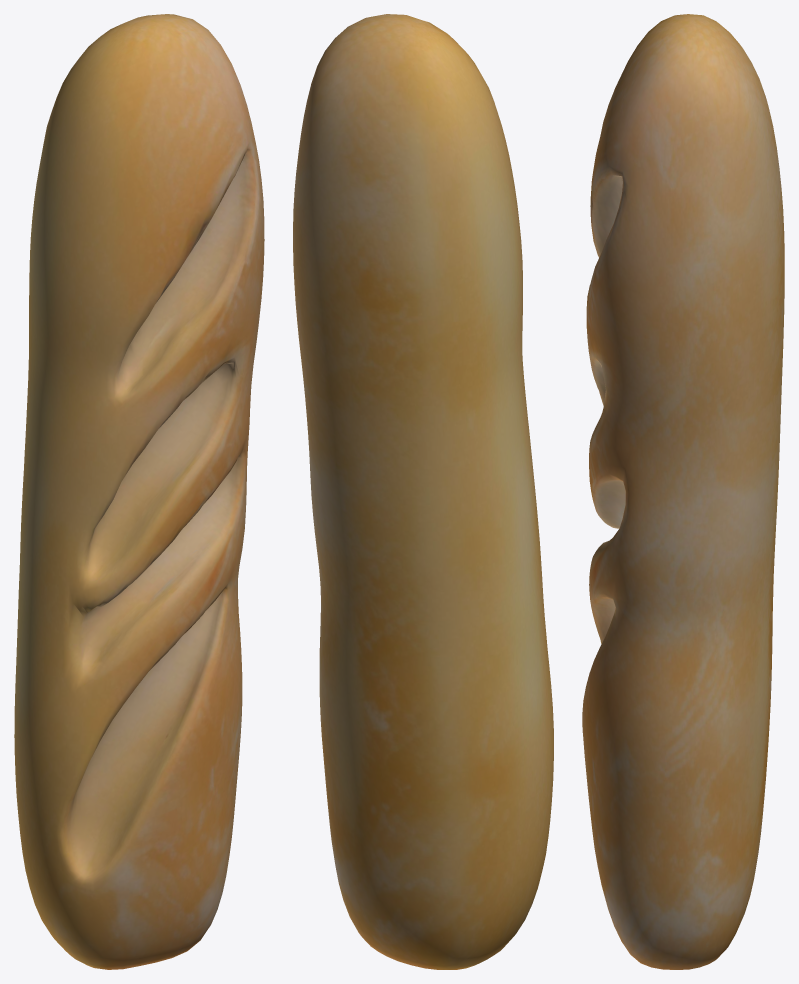
File: bread.fbx
The picture shows the model from 3 angles, left to right: view 1: azimuth 30°, elevation 25°; view 2: azimuth 150°, elevation 25°; view 3: azimuth 270°, elevation 25°; orthographic projection.
Parts seen in each view (by area): view 1: bread; view 2: bread; view 3: bread.
Boxes of the visible parts, x1,y1,x2,y2 form: bread: (14, 14, 264, 969); bread: (293, 14, 553, 969); bread: (582, 14, 784, 969).
Bounding box in the file's own units: 16.08 × 61.58 × 12.02.
Materials: 1 (1 with a texture image).
